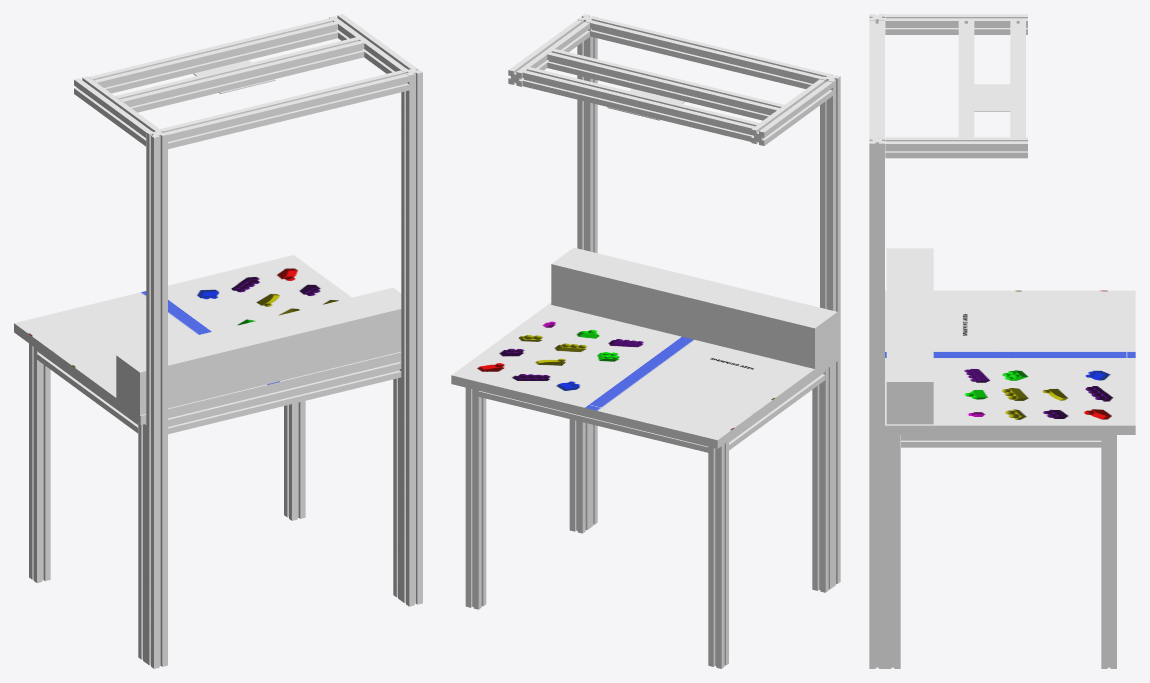
Rendered from tavolo.dae.
3 renders of one model, left to right at view 1: azimuth 30°, elevation 25°; view 2: azimuth 150°, elevation 25°; view 3: azimuth 270°, elevation 25°, orthographic. The views are drawn at different scales.
Parts seen in each view (by area): view 1: Tavolo; view 2: Tavolo; view 3: Tavolo.
Boxes of the visible parts, x1,y1,x2,y2 form: Tavolo: (14, 14, 422, 668); Tavolo: (451, 14, 840, 668); Tavolo: (869, 14, 1135, 668).
Size of the model in its own units: 1020 by 850 by 1850.
Materials: 2 (2 with a texture image).
